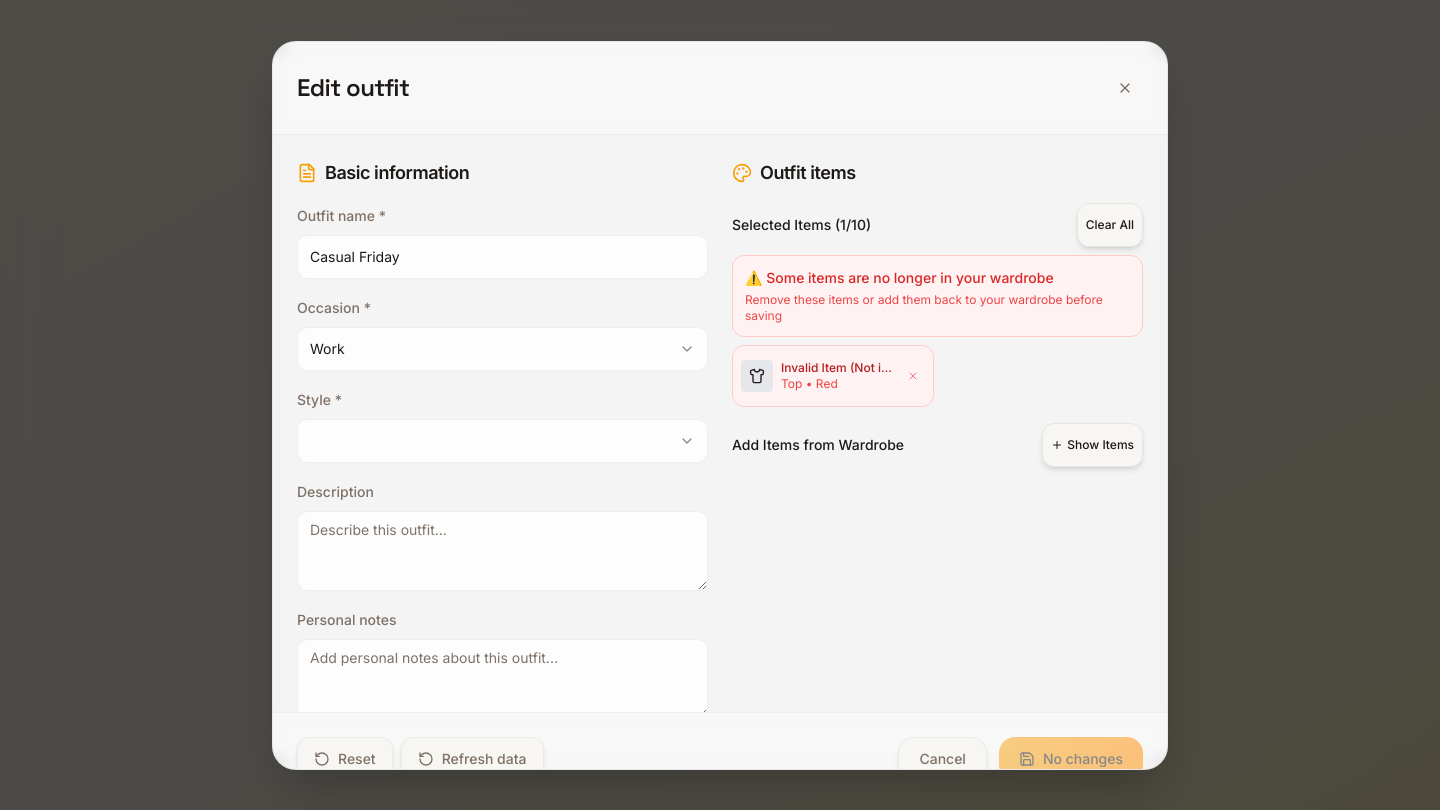
Test: OutfitEditModal › validates item existence in wardrobe
This screenshot has width=1440, height=810.
# Make a change so the save action is enabled, then try to save
Replace the text in the field showing "Casual Friday" with "Updated Outfit Name" at (502, 256), box [297,234,708,278]
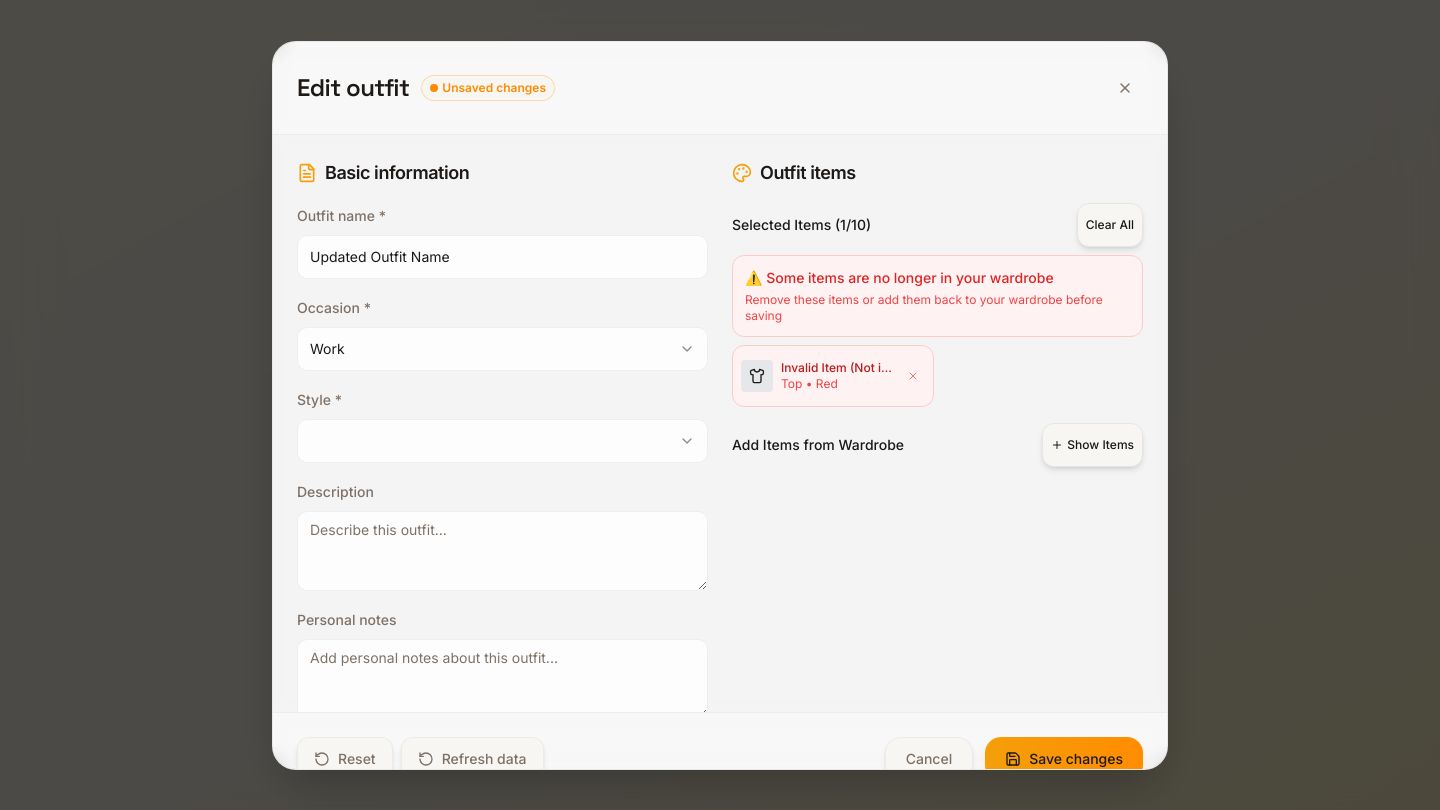
Click the button "Save changes".
click(1064, 758)  # box [985,736,1143,780]
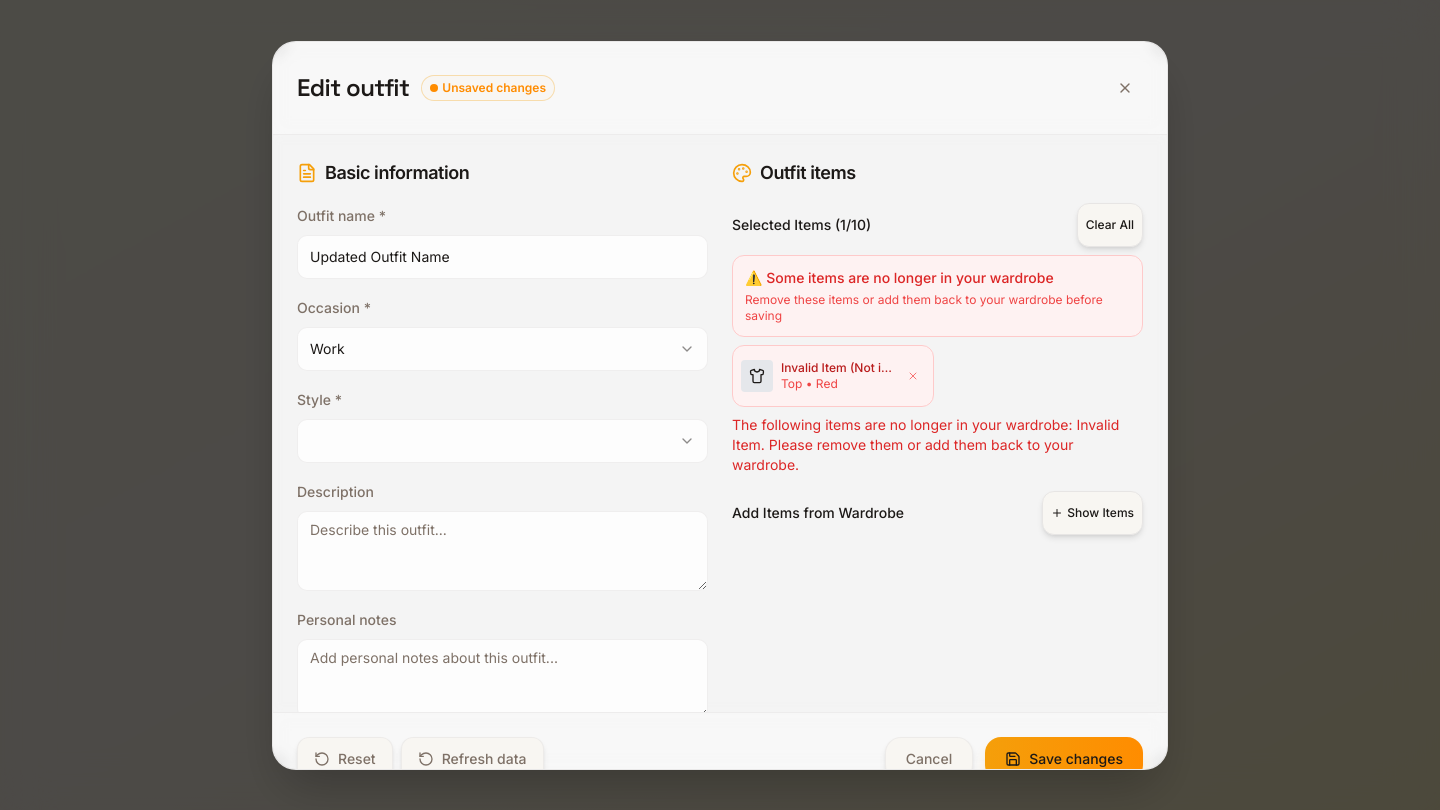
expect the text "The following items are no longer in your wardrobe:" is shown: met, box [732,416,1119,472]
